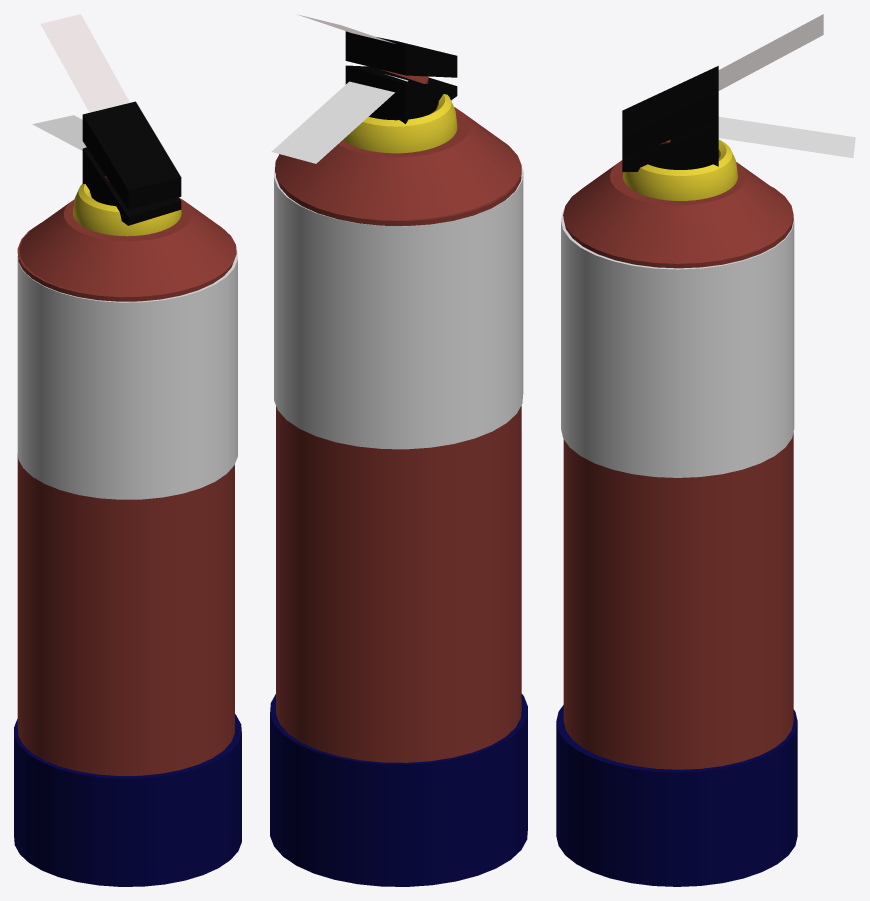
Rendered from cintasfire.glb.
3 views of the same model, side by side, from view 1: azimuth 30°, elevation 25°; view 2: azimuth 150°, elevation 25°; view 3: azimuth 270°, elevation 25° (orthographic). The views are drawn at different scales.
Parts seen in each view (by area): view 1: Cone, Cylinder.001, Cylinder, Cube, Plane, Torus, Plane.001; view 2: Cone, Cylinder.001, Cylinder, Cube, Plane.001, Torus; view 3: Cone, Cylinder.001, Cylinder, Cube, Torus, Plane.001, Plane.
Boxes of the visible parts, x1=… form: Cone: x1=17, y1=176, x2=236, y2=775; Cylinder.001: x1=17, y1=249, x2=237, y2=499; Cylinder: x1=14, y1=714, x2=241, y2=886; Cube: x1=82, y1=101, x2=181, y2=225; Plane: x1=40, y1=14, x2=129, y2=112; Torus: x1=73, y1=184, x2=181, y2=236; Plane.001: x1=32, y1=115, x2=86, y2=150; Cone: x1=275, y1=70, x2=521, y2=762; Cylinder.001: x1=274, y1=166, x2=523, y2=449; Cylinder: x1=270, y1=694, x2=527, y2=886; Cube: x1=345, y1=31, x2=457, y2=123; Plane.001: x1=271, y1=74, x2=408, y2=163; Torus: x1=343, y1=94, x2=457, y2=153; Cone: x1=563, y1=140, x2=793, y2=769; Cylinder.001: x1=561, y1=209, x2=794, y2=477; Cylinder: x1=556, y1=705, x2=797, y2=886; Cube: x1=622, y1=66, x2=718, y2=171; Torus: x1=623, y1=139, x2=737, y2=200; Plane.001: x1=718, y1=116, x2=855, y2=157; Plane: x1=718, y1=14, x2=823, y2=90.
Bounding box in the file's own units: 2.1 × 7.8 × 2.6.
